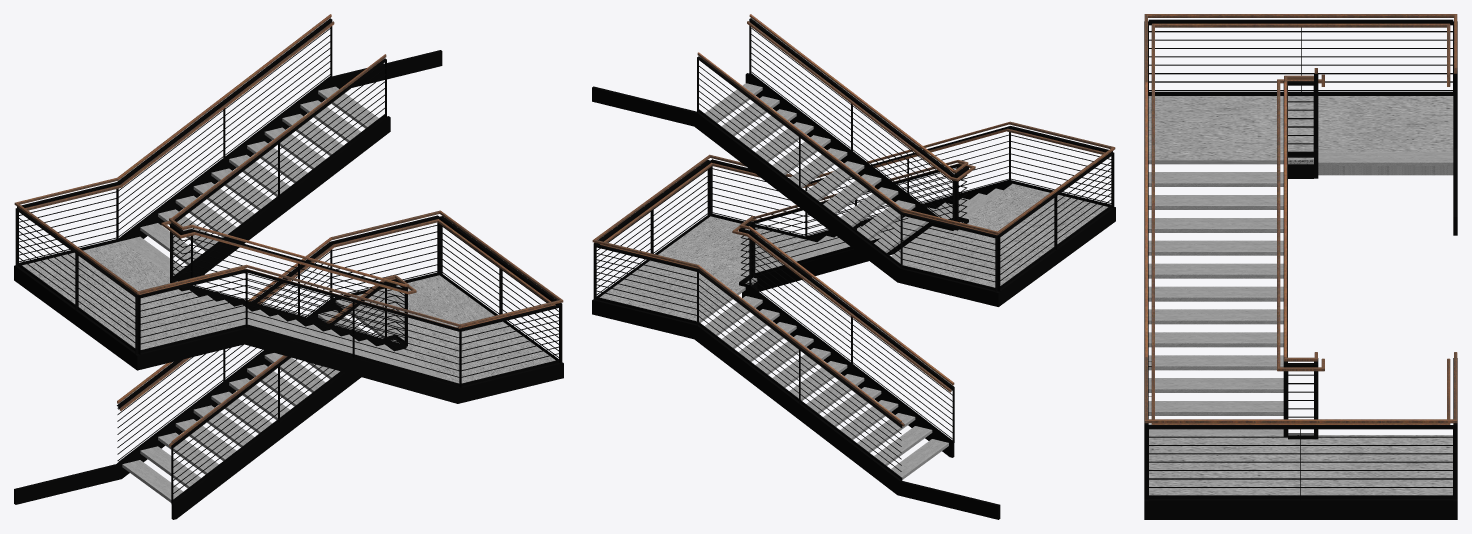
File: staircase_module.glb
3 views of the same model, side by side, from view 1: azimuth 30°, elevation 25°; view 2: azimuth 150°, elevation 25°; view 3: azimuth 270°, elevation 25° (orthographic). The views are drawn at different scales.
Parts seen in each view (by area): view 1: material-ddbbec32-88d6-48ae-af4b-91e2f6e011b5 (×22), material-eabfcb1c-ff0a-431e-b6bd-2a9872e92f69 (×7), material-a097436a-9622-482f-9fdd-0fd1fca7169b (×12), material-a8c096f6-0782-4414-ad2f-88acd9d14531 (×5), material-a3bd4d65-c284-4d39-8ff4-76955b73932c (×2); view 2: material-ddbbec32-88d6-48ae-af4b-91e2f6e011b5 (×26), material-eabfcb1c-ff0a-431e-b6bd-2a9872e92f69 (×6), material-a097436a-9622-482f-9fdd-0fd1fca7169b (×10), material-a8c096f6-0782-4414-ad2f-88acd9d14531 (×4), material-a3bd4d65-c284-4d39-8ff4-76955b73932c (×2); view 3: material-ddbbec32-88d6-48ae-af4b-91e2f6e011b5 (×15), material-a097436a-9622-482f-9fdd-0fd1fca7169b (×21), material-eabfcb1c-ff0a-431e-b6bd-2a9872e92f69 (×3), material-a8c096f6-0782-4414-ad2f-88acd9d14531 (×4), material-a3bd4d65-c284-4d39-8ff4-76955b73932c (×4).
Part boxes in pixels (x1,y1,x2,y2): material-ddbbec32-88d6-48ae-af4b-91e2f6e011b5 (×22): [22, 86, 555, 502]; material-eabfcb1c-ff0a-431e-b6bd-2a9872e92f69 (×7): [14, 50, 563, 519]; material-a097436a-9622-482f-9fdd-0fd1fca7169b (×12): [16, 18, 561, 504]; material-a8c096f6-0782-4414-ad2f-88acd9d14531 (×5): [117, 14, 460, 443]; material-a3bd4d65-c284-4d39-8ff4-76955b73932c (×2): [120, 21, 408, 294]; material-ddbbec32-88d6-48ae-af4b-91e2f6e011b5 (×26): [600, 83, 1107, 479]; material-eabfcb1c-ff0a-431e-b6bd-2a9872e92f69 (×6): [592, 73, 1114, 519]; material-a097436a-9622-482f-9fdd-0fd1fca7169b (×10): [594, 18, 1113, 481]; material-a8c096f6-0782-4414-ad2f-88acd9d14531 (×4): [697, 14, 954, 423]; material-a3bd4d65-c284-4d39-8ff4-76955b73932c (×2): [747, 21, 951, 392]; material-ddbbec32-88d6-48ae-af4b-91e2f6e011b5 (×15): [1148, 96, 1453, 495]; material-a097436a-9622-482f-9fdd-0fd1fca7169b (×21): [1144, 19, 1457, 501]; material-eabfcb1c-ff0a-431e-b6bd-2a9872e92f69 (×3): [1148, 148, 1457, 519]; material-a8c096f6-0782-4414-ad2f-88acd9d14531 (×4): [1144, 14, 1457, 423]; material-a3bd4d65-c284-4d39-8ff4-76955b73932c (×4): [1151, 23, 1449, 424].
Size of the model in its own units: 7.94 by 7.34 by 3.97.
Materials: 5 (3 with a texture image).
